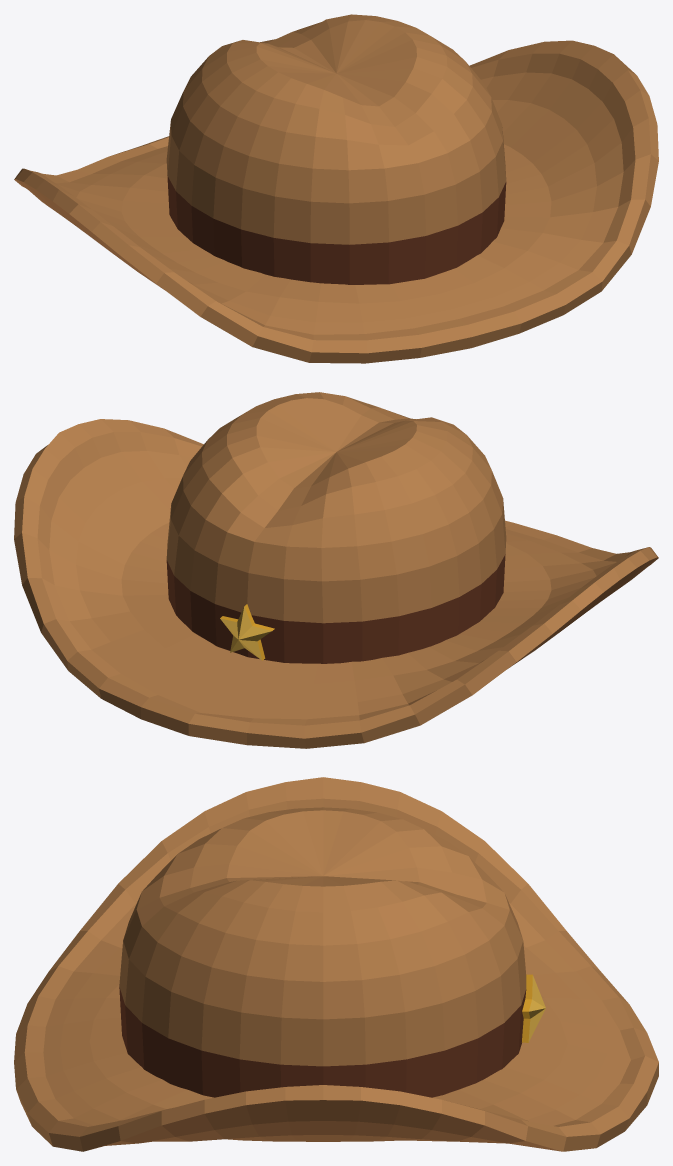
Rendered from Cosmetic_Cute_Cowboy_Hat.glb.
3 views of the same model, one above another, from view 1: azimuth 30°, elevation 25°; view 2: azimuth 150°, elevation 25°; view 3: azimuth 270°, elevation 25° (orthographic). The views are drawn at different scales.
Visible parts, largest first — view 1: Cosmetic_Cute_Cowboy_Hat; view 2: Cosmetic_Cute_Cowboy_Hat; view 3: Cosmetic_Cute_Cowboy_Hat.
Part boxes in pixels (<box>): Cosmetic_Cute_Cowboy_Hat: <box>14,14,658,363</box>; Cosmetic_Cute_Cowboy_Hat: <box>14,392,658,748</box>; Cosmetic_Cute_Cowboy_Hat: <box>14,777,658,1151</box>.
Bounding box in the file's own units: 1.11 × 0.3756 × 0.9632.
